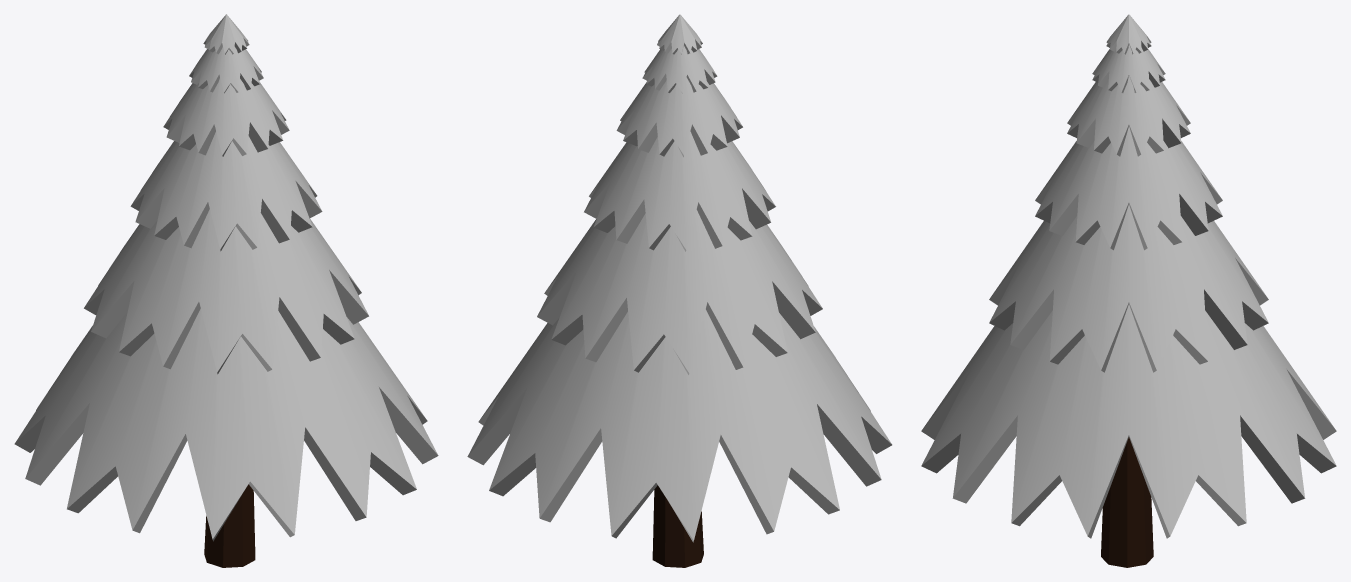
File: tree_winter.glb
3 renders of one model, left to right at view 1: azimuth 30°, elevation 25°; view 2: azimuth 150°, elevation 25°; view 3: azimuth 270°, elevation 25°, orthographic.
Visible parts, largest first — view 1: Окружность.001; view 2: Окружность.001; view 3: Окружность.001.
Boxes of the visible parts, x1=… form: Окружность.001: x1=14, y1=14, x2=438, y2=567; Окружность.001: x1=467, y1=14, x2=892, y2=567; Окружность.001: x1=921, y1=14, x2=1336, y2=567.
Size of the model in its own units: 1.78 by 2.56 by 1.78.
Materials: 2 (2 with a texture image).
